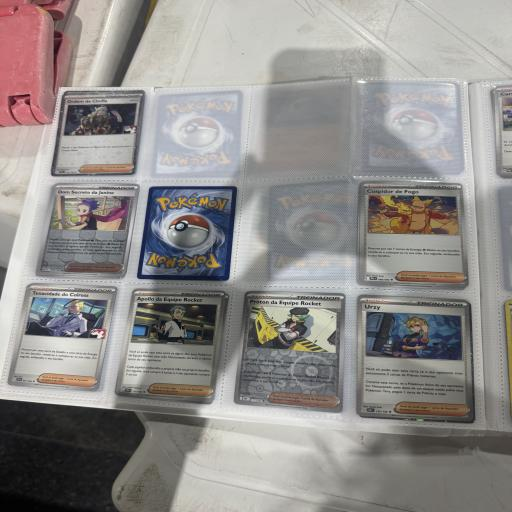card: (233, 284, 354, 413), (357, 294, 475, 421), (8, 269, 119, 402), (115, 282, 226, 403), (359, 181, 470, 288), (36, 181, 140, 278), (49, 92, 148, 177)
